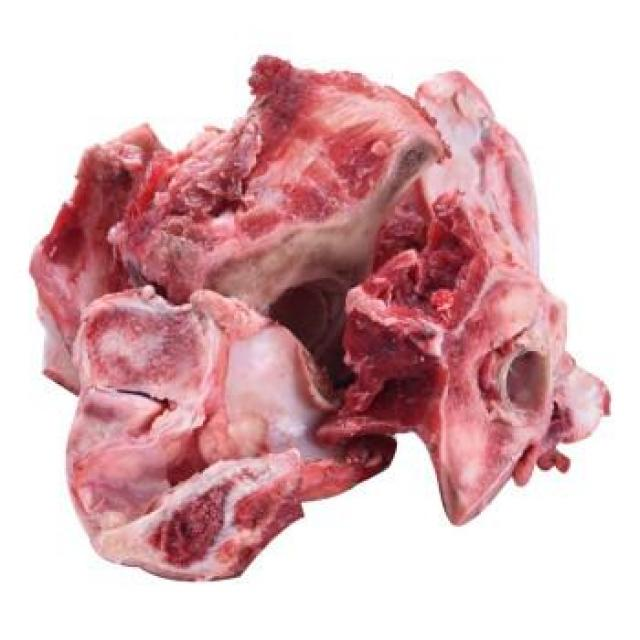beef: (2, 11, 640, 605)
